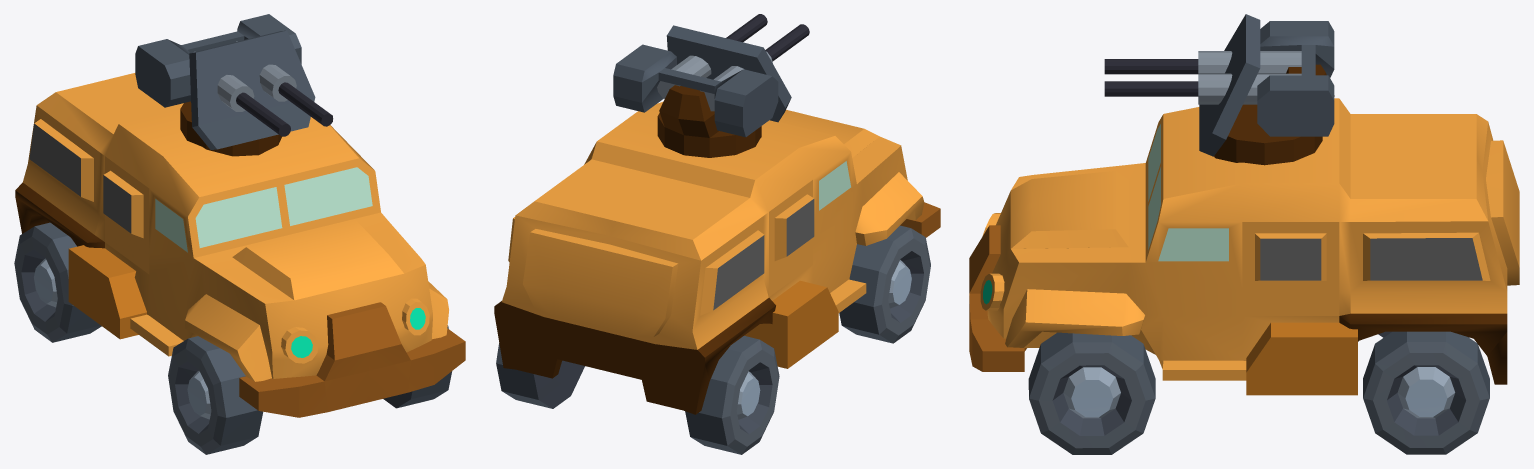
Rendered from Armored_Vehicles3.fbx.
3 views of the same model, side by side, from view 1: azimuth 30°, elevation 25°; view 2: azimuth 150°, elevation 25°; view 3: azimuth 270°, elevation 25° (orthographic). The views are drawn at different scales.
Parts seen in each view (by area): view 1: Body, Turret, Tie11, Tie12, Tie; view 2: Body, Turret, Tie11, Tie12, Tie13; view 3: Body, Turret, Tie13, Tie.
Part boxes in pixels (x1,y1,x2,y2): Body: (15, 73, 465, 417); Turret: (135, 14, 333, 156); Tie11: (168, 336, 263, 454); Tie12: (14, 222, 101, 342); Tie: (383, 325, 452, 408); Body: (494, 102, 940, 414); Turret: (613, 14, 809, 157); Tie11: (839, 225, 930, 343); Tie12: (685, 335, 779, 454); Tie13: (496, 343, 584, 408); Body: (969, 98, 1519, 395); Turret: (1104, 14, 1334, 165); Tie13: (1363, 331, 1489, 454); Tie: (1028, 332, 1155, 454).
Size of the model in its own units: 158 by 204 by 285.
